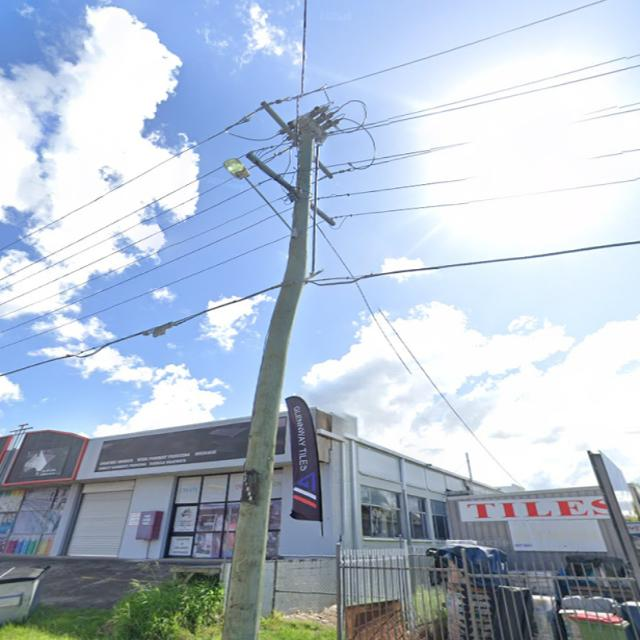HV-switch: (278, 102, 347, 150)
HV-transmission: (227, 87, 385, 184)
crossarm: (245, 150, 338, 228), (260, 100, 334, 180)
streetlight: (222, 156, 294, 234)
timber-pole: (221, 129, 315, 640)
